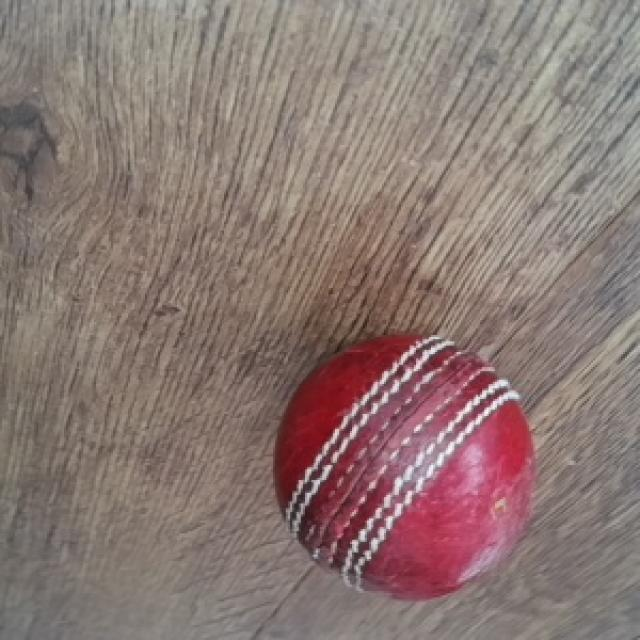ball: (273, 335, 538, 604)
